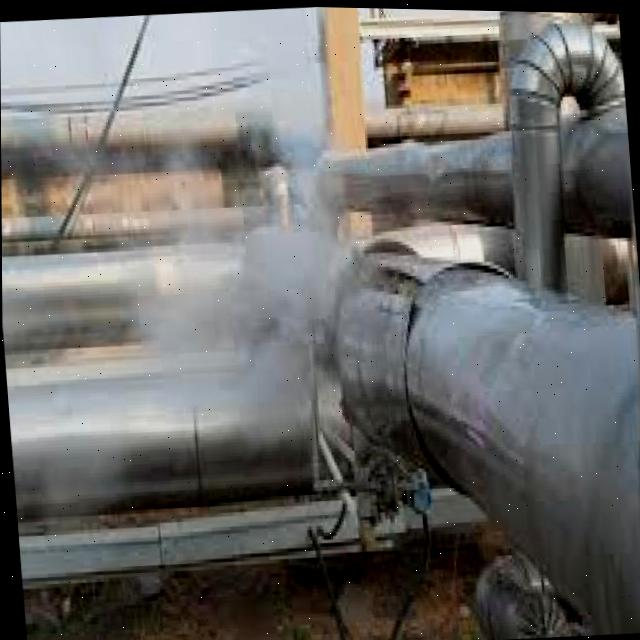corrosion: (189, 73, 374, 406)
